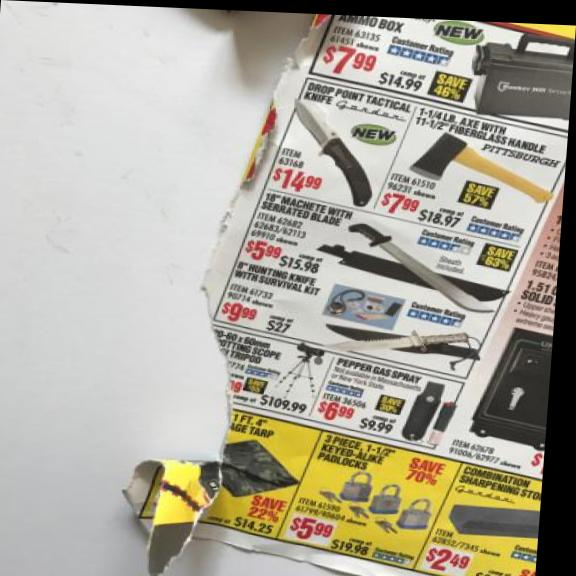Kertas: (108, 7, 576, 576)
